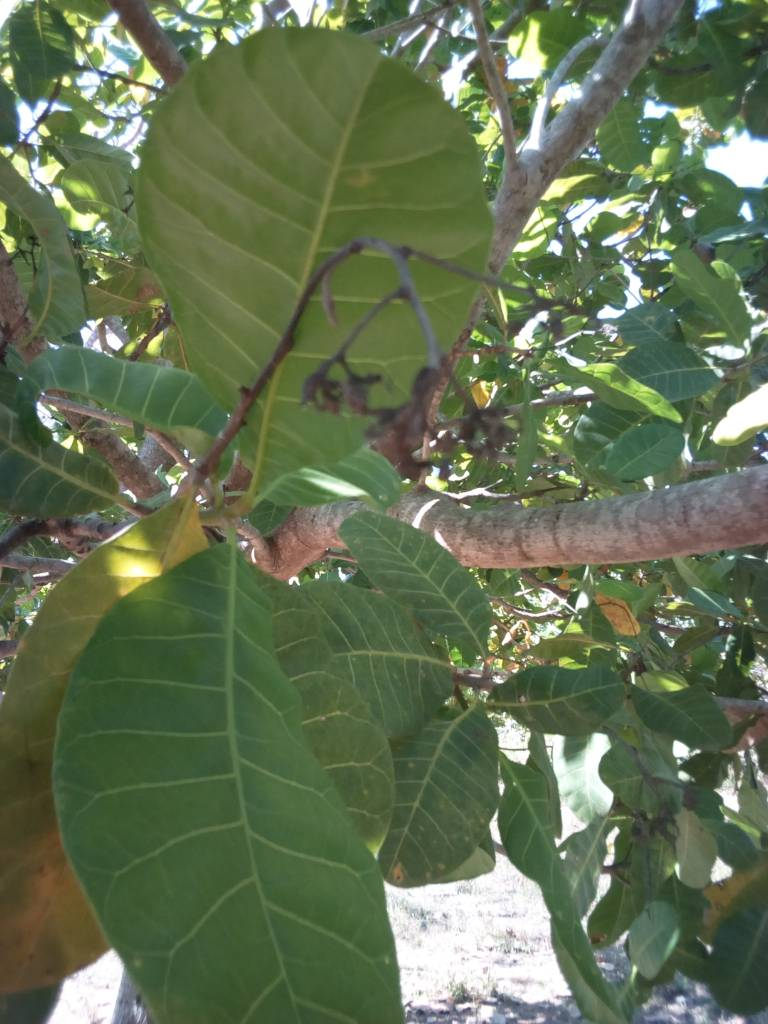Dessèchement des bourgeons: (304, 235, 504, 474), (616, 772, 688, 871)
